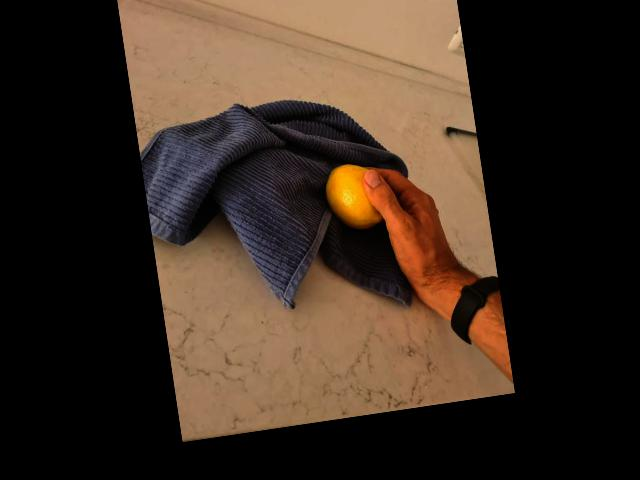lemon: (322, 158, 397, 237)
